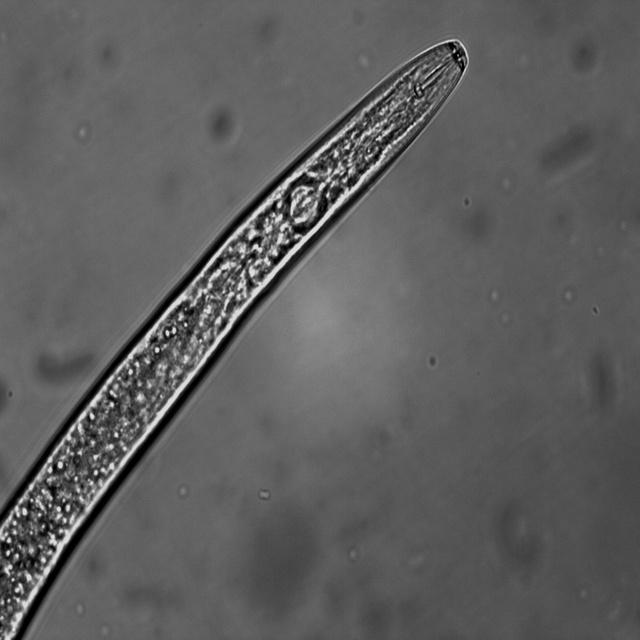Pratylenchus: (0, 30, 480, 640)
